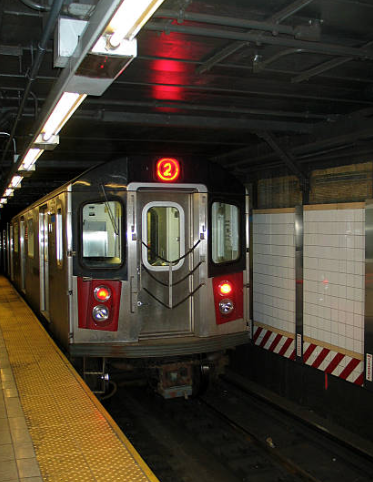train: (54, 154, 257, 349)
